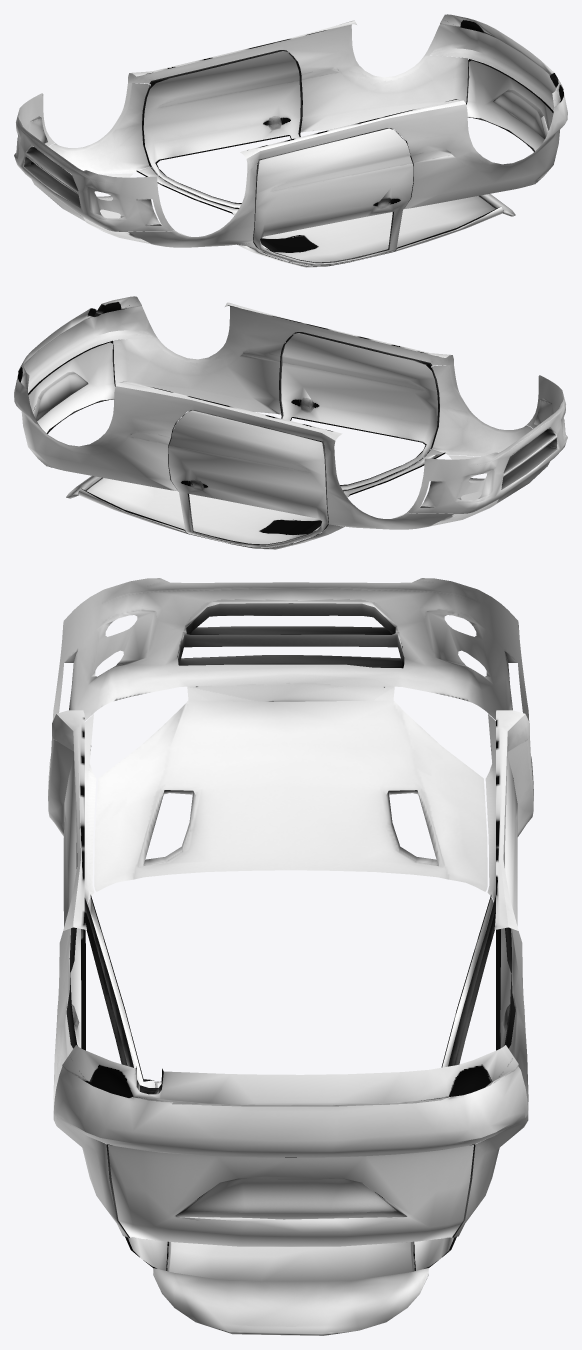
Rendered from FN_body_d2.obj.
3 views of the same model, one above another, from view 1: azimuth 30°, elevation 25°; view 2: azimuth 150°, elevation 25°; view 3: azimuth 270°, elevation 25° (orthographic). The views are drawn at different scales.
Visible parts, largest first — view 1: FN_body; view 2: FN_body; view 3: FN_body.
Boxes of the visible parts, <box> form: FN_body: <box>14,14,567,267</box>; FN_body: <box>14,296,567,549</box>; FN_body: <box>48,578,533,1335</box>.
Bounding box in the file's own units: 4.06 × 1.3 × 1.76.
1 material, 1 textured.
